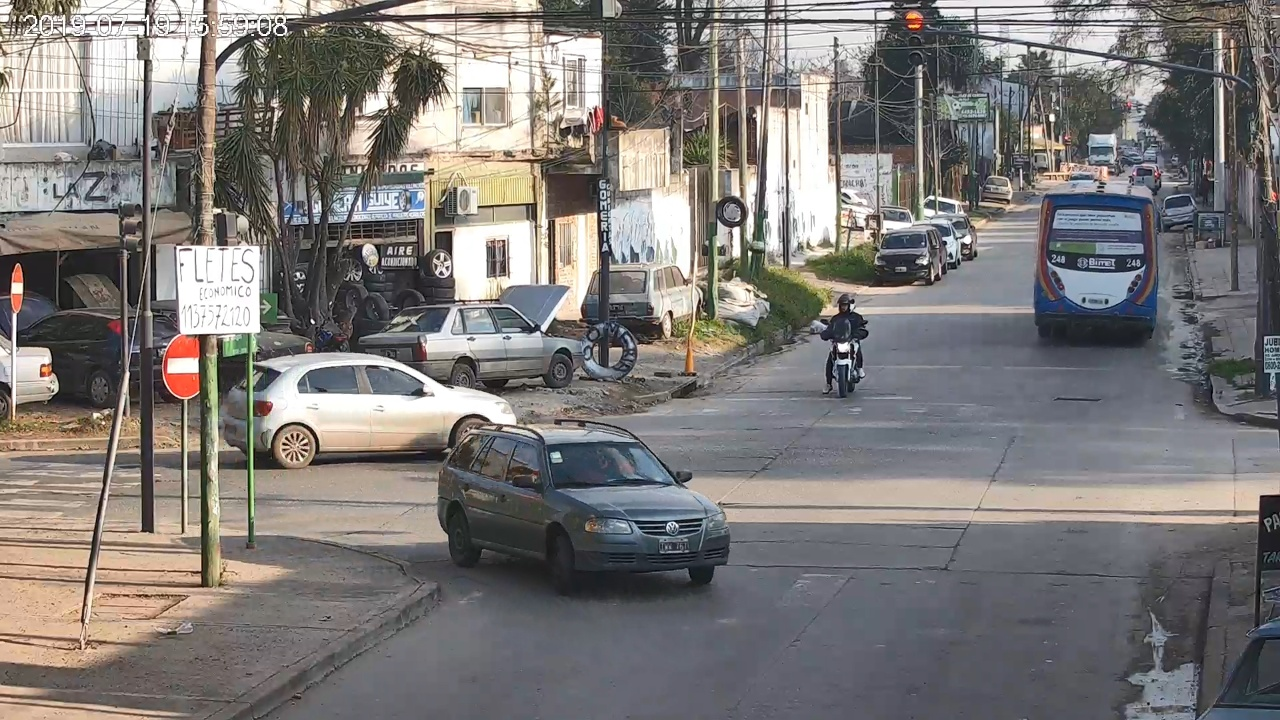bus: (1034, 181, 1159, 343)
front car: (439, 420, 730, 592)
front motorcycle: (821, 312, 869, 396)
traffic light: (905, 11, 926, 66)
